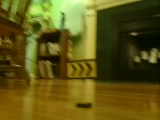right: (64, 60, 98, 78)
